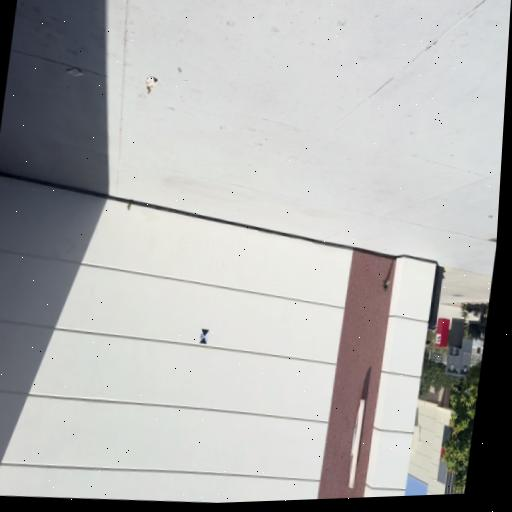target4: (199, 328, 209, 344)
